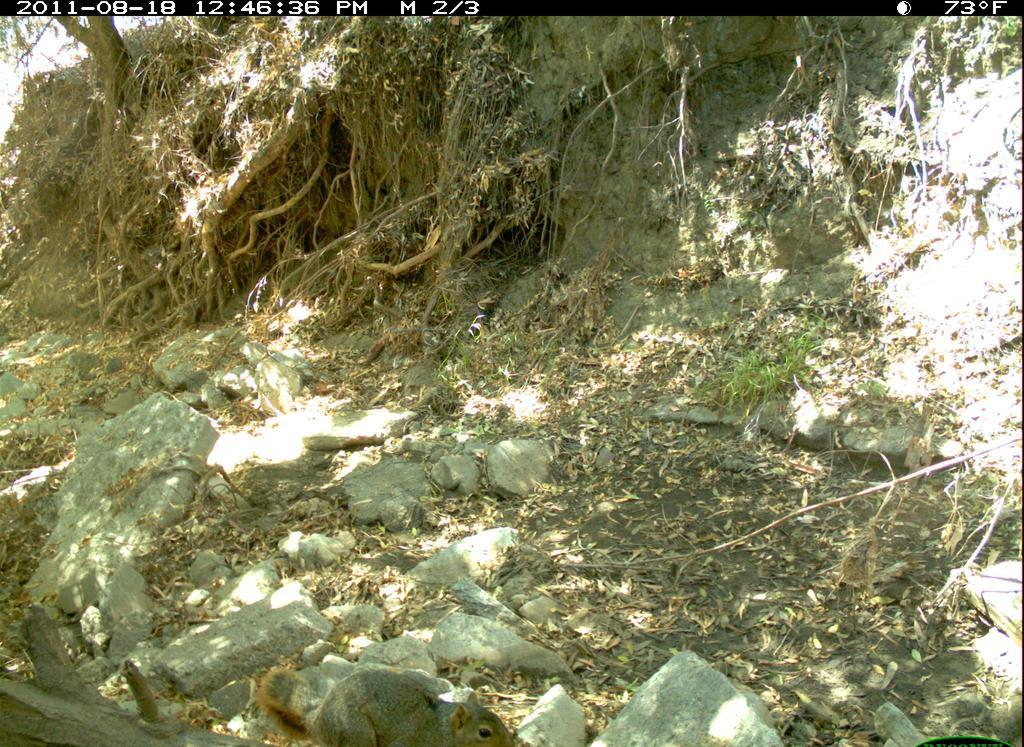squirrel: (248, 658, 527, 747)
